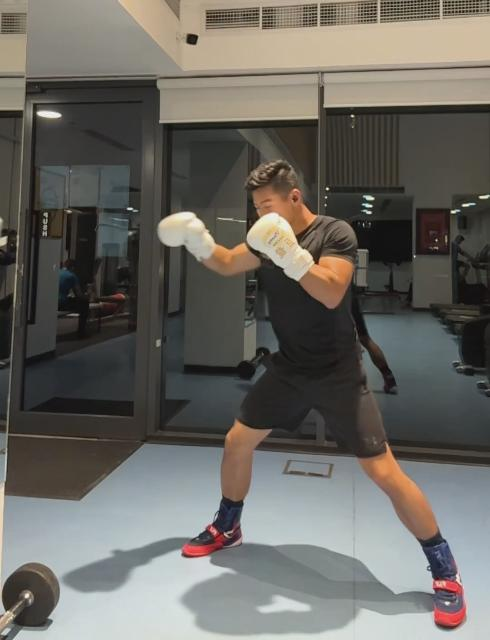punch: (152, 156, 468, 632)
